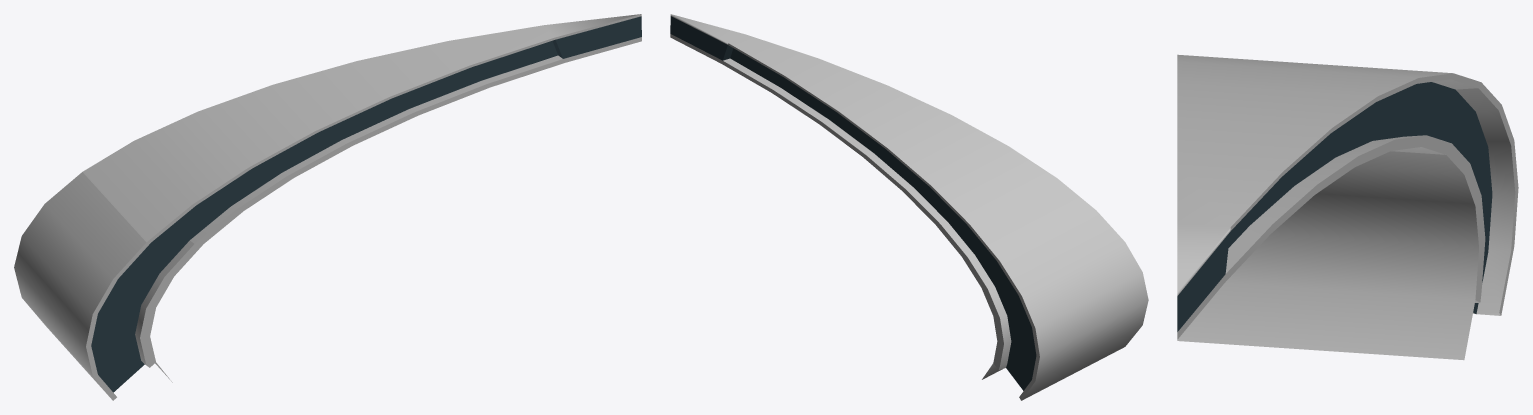
The model's file is level_top.fbx.
3 renders of one model, left to right at view 1: azimuth 30°, elevation 25°; view 2: azimuth 150°, elevation 25°; view 3: azimuth 270°, elevation 25°, orthographic. The views are drawn at different scales.
Visible parts, largest first — view 1: polySurface108, polySurface109; view 2: polySurface108, polySurface109; view 3: polySurface109, polySurface108.
Part boxes in pixels (x1=…): polySurface108: x1=82, y1=14, x2=641, y2=244; polySurface109: x1=14, y1=172, x2=202, y2=400; polySurface108: x1=670, y1=14, x2=1096, y2=260; polySurface109: x1=962, y1=210, x2=1148, y2=400; polySurface109: x1=1177, y1=82, x2=1518, y2=360; polySurface108: x1=1177, y1=54, x2=1481, y2=339.
Bounding box in the file's own units: 28.28 × 12.57 × 8.73.
